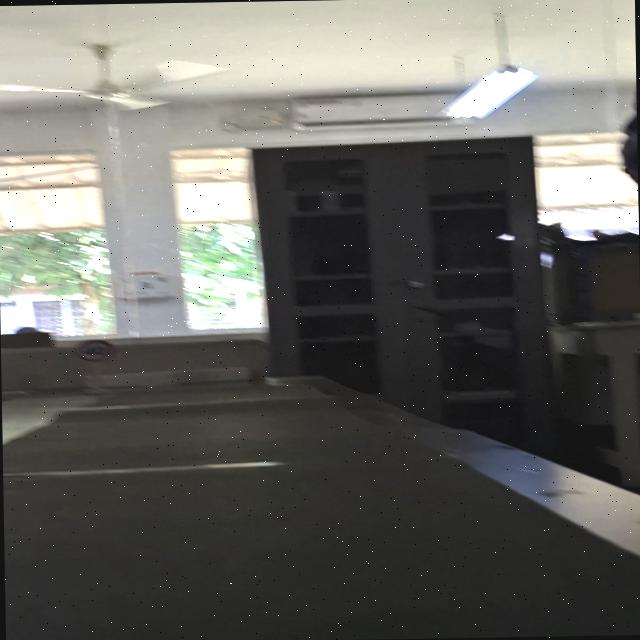Speed40: (72, 338, 120, 363)
